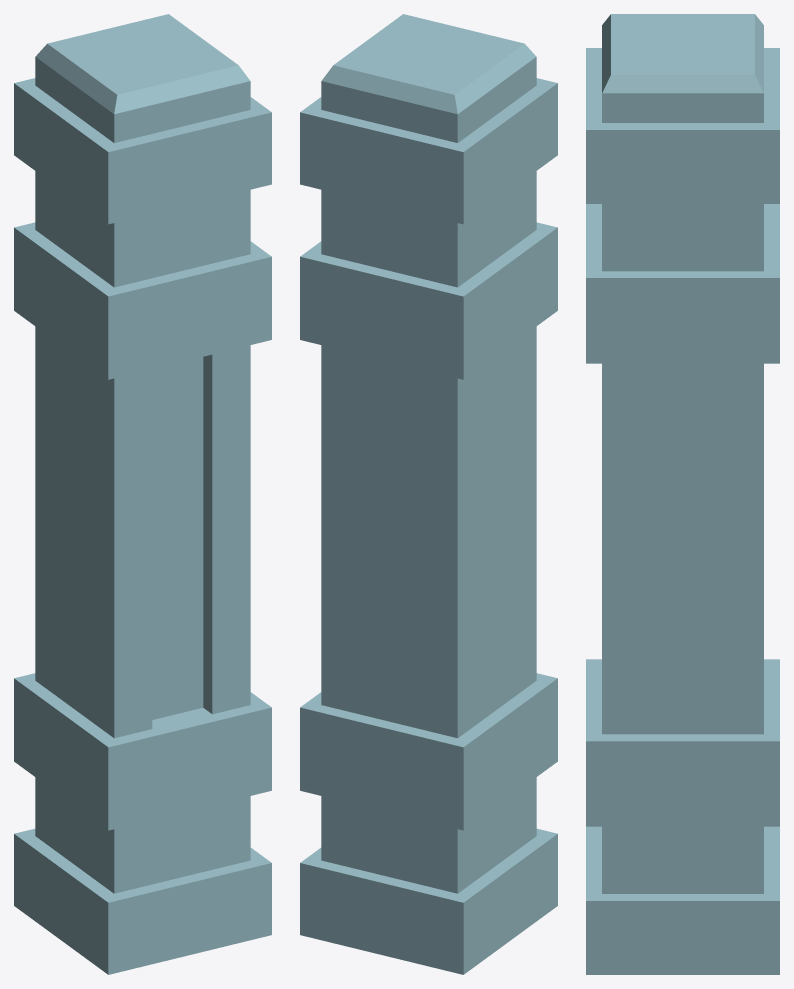
Rendered from pillarSquare.fbx.
The picture shows the model from 3 angles, left to right: view 1: azimuth 30°, elevation 25°; view 2: azimuth 150°, elevation 25°; view 3: azimuth 270°, elevation 25°; orthographic projection. The views are drawn at different scales.
Parts seen in each view (by area): view 1: pillarSquare; view 2: pillarSquare; view 3: pillarSquare.
Part boxes in pixels (bbox=[...]): pillarSquare: bbox=[14, 14, 271, 974]; pillarSquare: bbox=[300, 14, 557, 974]; pillarSquare: bbox=[586, 14, 779, 974].
Bounding box in the file's own units: 2.06 × 10.44 × 2.06.
